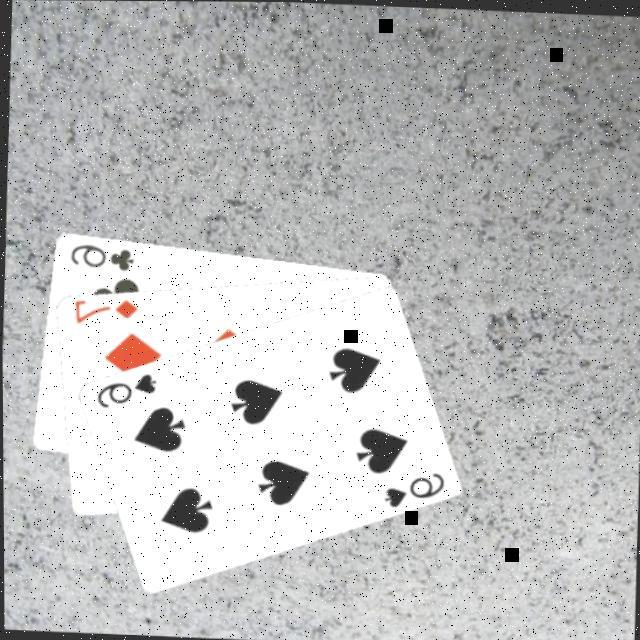6C: (63, 239, 134, 274)
6S: (90, 368, 157, 413), (377, 467, 444, 512)
7D: (67, 294, 138, 328)
